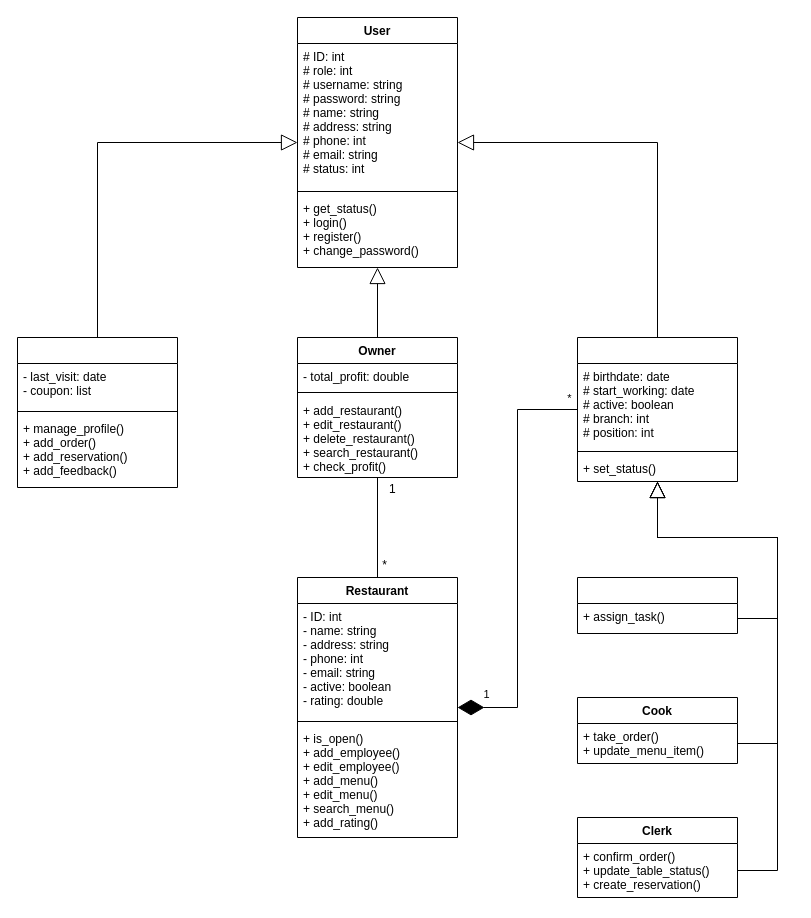
Some shapes in this 811 by 918 pixel diagram are drawn without their labels. Each missing label, with the box of its shape:
Customer: (16, 336, 178, 488)
Manager: (576, 576, 738, 634)
Staff: (576, 336, 738, 482)
